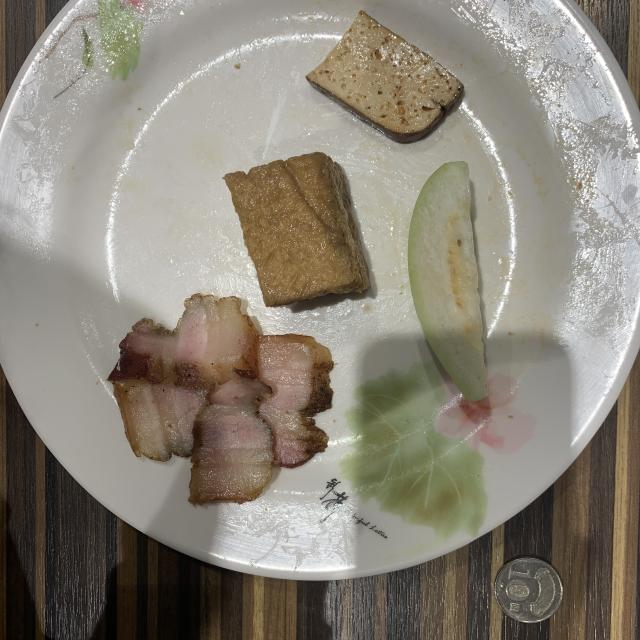coin: (495, 556, 562, 622)
egg tofu: (224, 152, 370, 306)
firm tofu: (306, 11, 464, 142)
grilled pork: (109, 294, 331, 504)
guava -sliced-: (408, 161, 489, 402)
